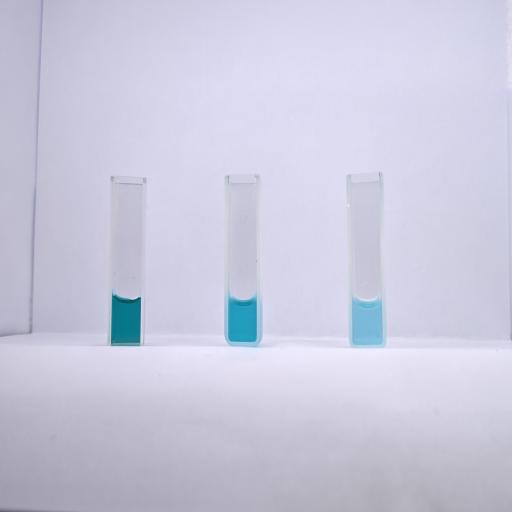cuvette: (345, 170, 388, 350), (106, 174, 149, 348), (223, 172, 263, 346)
liquid: (111, 296, 141, 342), (352, 299, 382, 344), (228, 296, 256, 341)
